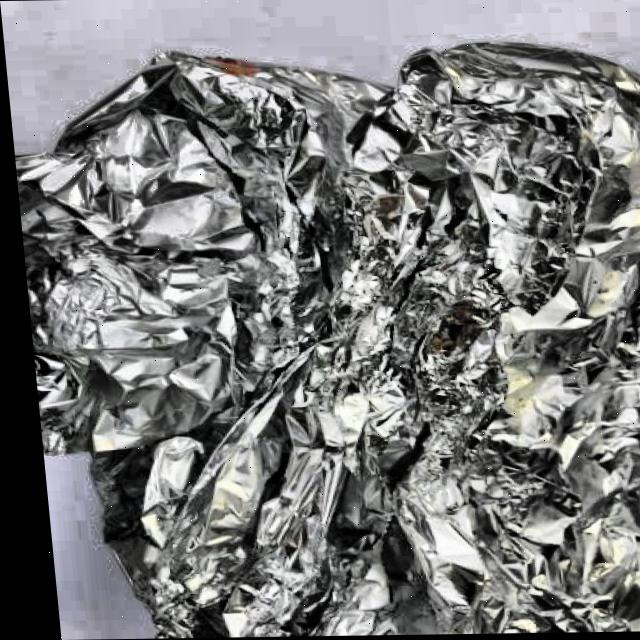metal: (5, 38, 640, 640)
